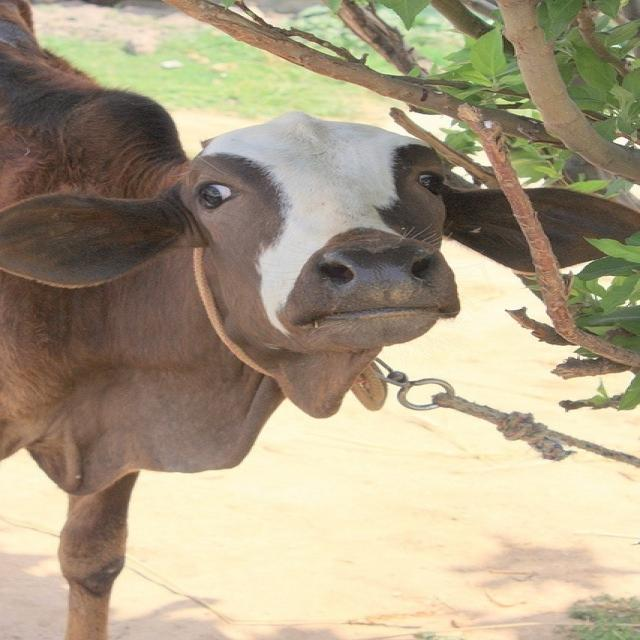cow: (0, 2, 504, 640)
